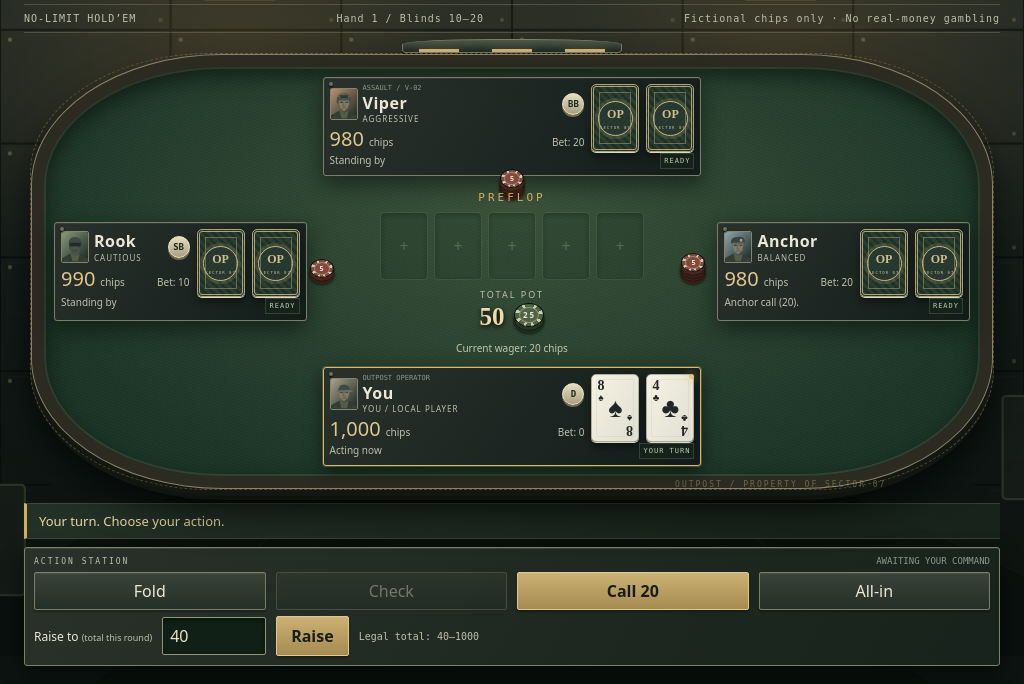
guards invalid wagers and updates controls on a human raise
The image size is (1024, 684).
Replace the text in the number field labelled "Raise to (total this round)" with "1". click: coordinates (214, 636)
box: top-left (162, 617), bottom-right (266, 655)
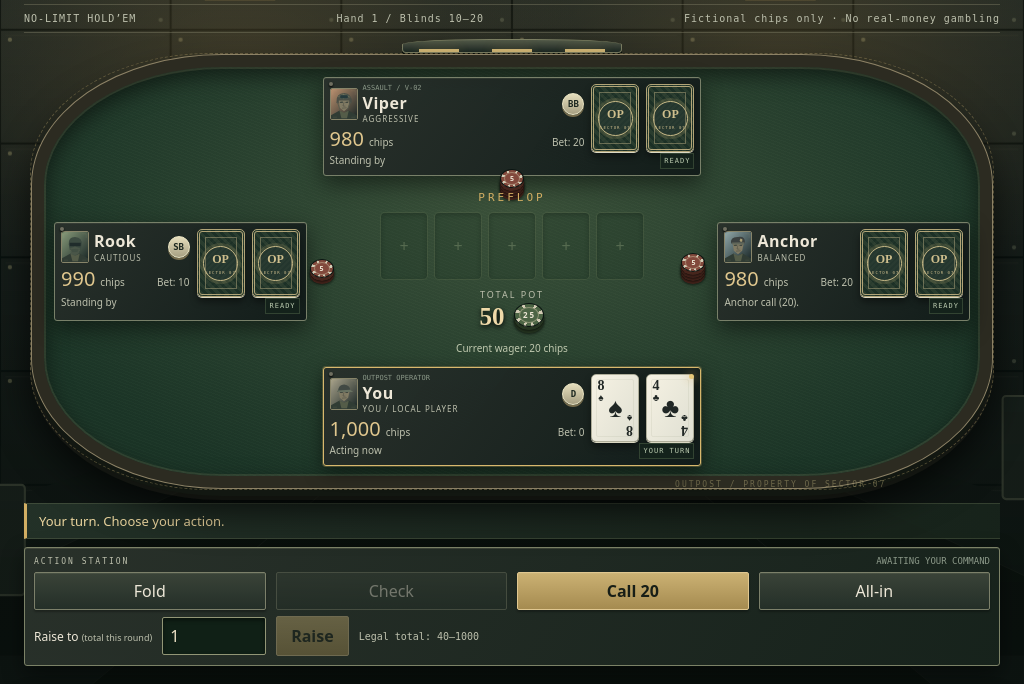
Expected: the button "Raise" is disabled, top-left (276, 616), bottom-right (349, 656)
Replace the text in the number field labelled "Raise to (total this round)" with "1000". click: coordinates (214, 636)
box: top-left (162, 617), bottom-right (266, 655)
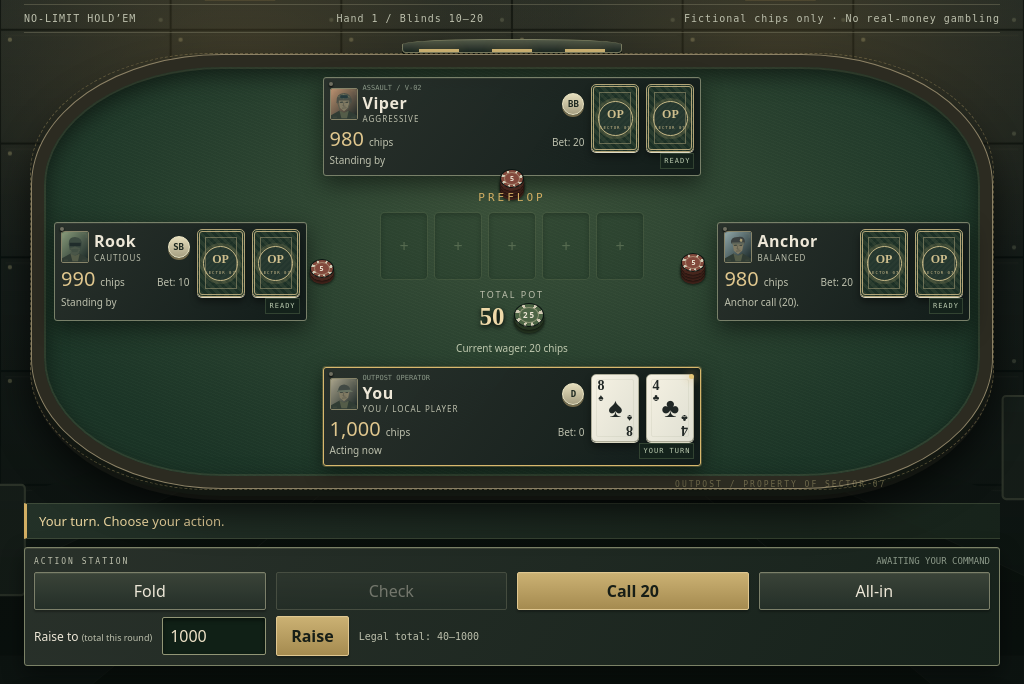
Click the button "Raise". click: coordinates (312, 636)
box: top-left (276, 616), bottom-right (349, 656)
(page scrolled)
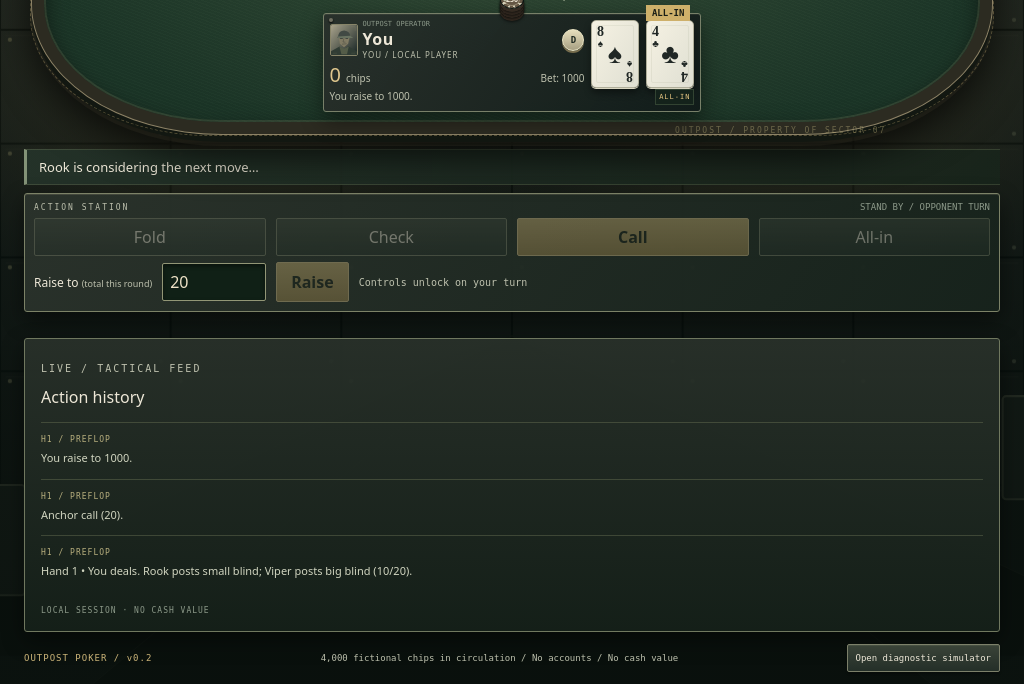
Expected: the button "Fold" is disabled, top-left (34, 218), bottom-right (266, 256)
Expected: the element "Action history" shows "You raise to 1000", top-left (41, 450), bottom-right (132, 465)
